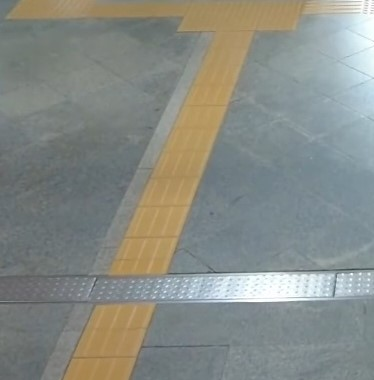guideBlock: (89, 307, 139, 360), (149, 175, 200, 205), (136, 210, 184, 240), (120, 240, 167, 270), (180, 108, 220, 132), (164, 152, 203, 176), (177, 132, 208, 148)
